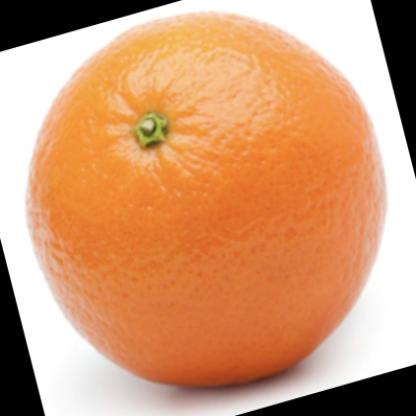fresh: (38, 31, 381, 385)
